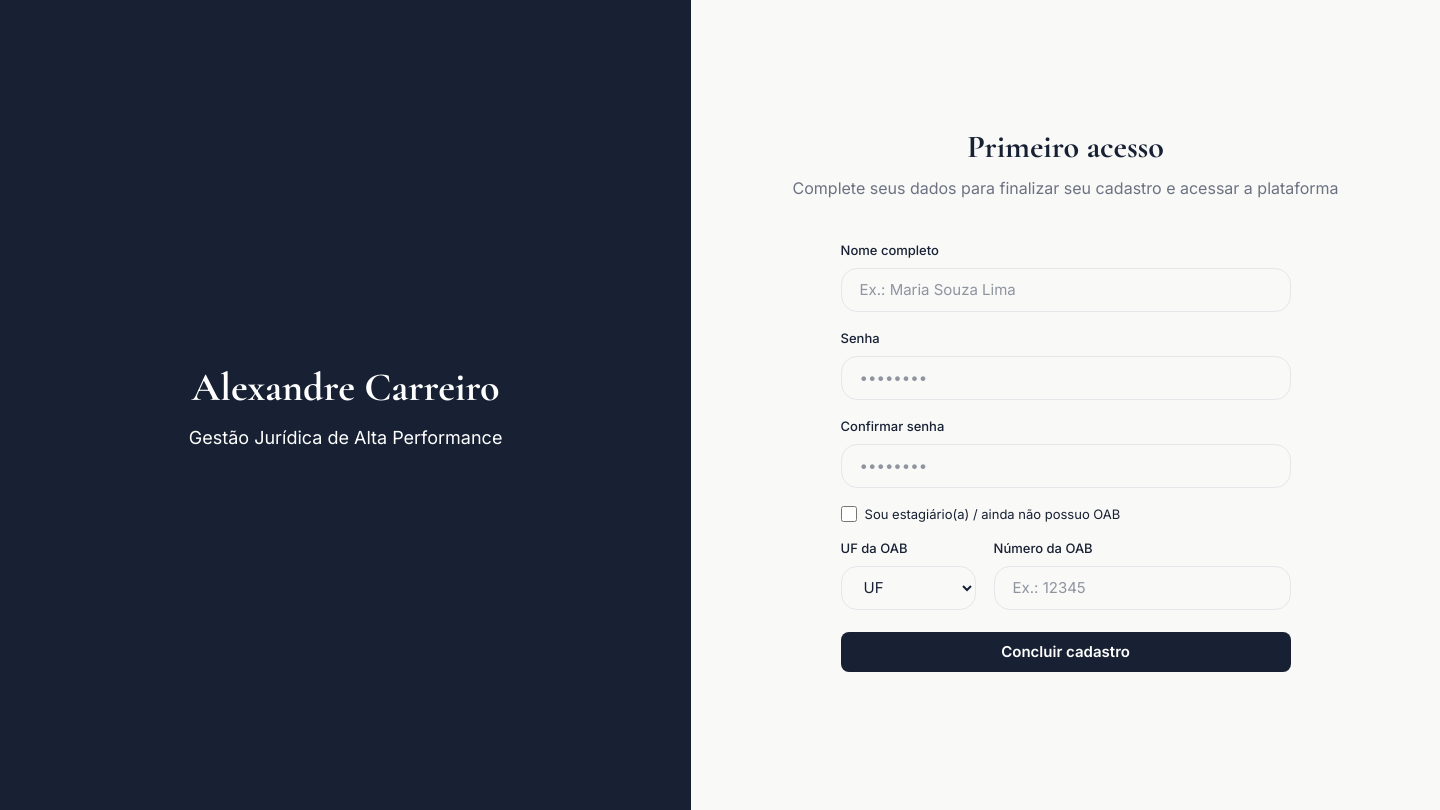
Scenario: Integração: Primeiro Acesso (FirstLoginPage + useFirstLogin + services/auth + fetch) › traduz e exibe erro da API na tela quando PATCH /funcionarios/primeiro-acesso retorna erro 500 inesperado sem corpo detalhado
Type "Maria Souza Lima" into the field labelled "Nome completo" at (1066, 290), box top-left (841, 268), bottom-right (1291, 312)
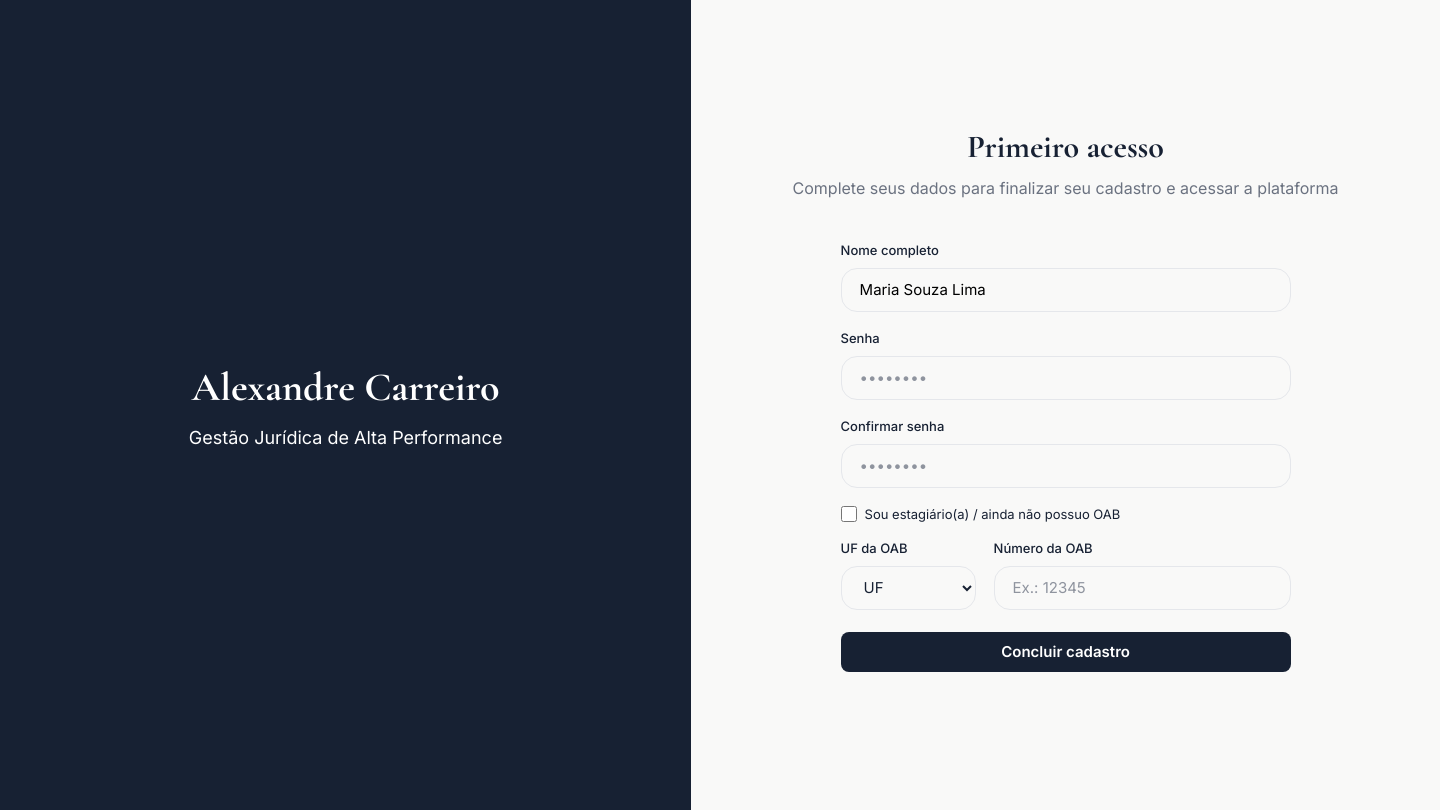
Type "SenhaForte@123" into the password field labelled "Senha" at (1066, 378), box top-left (841, 356), bottom-right (1291, 400)
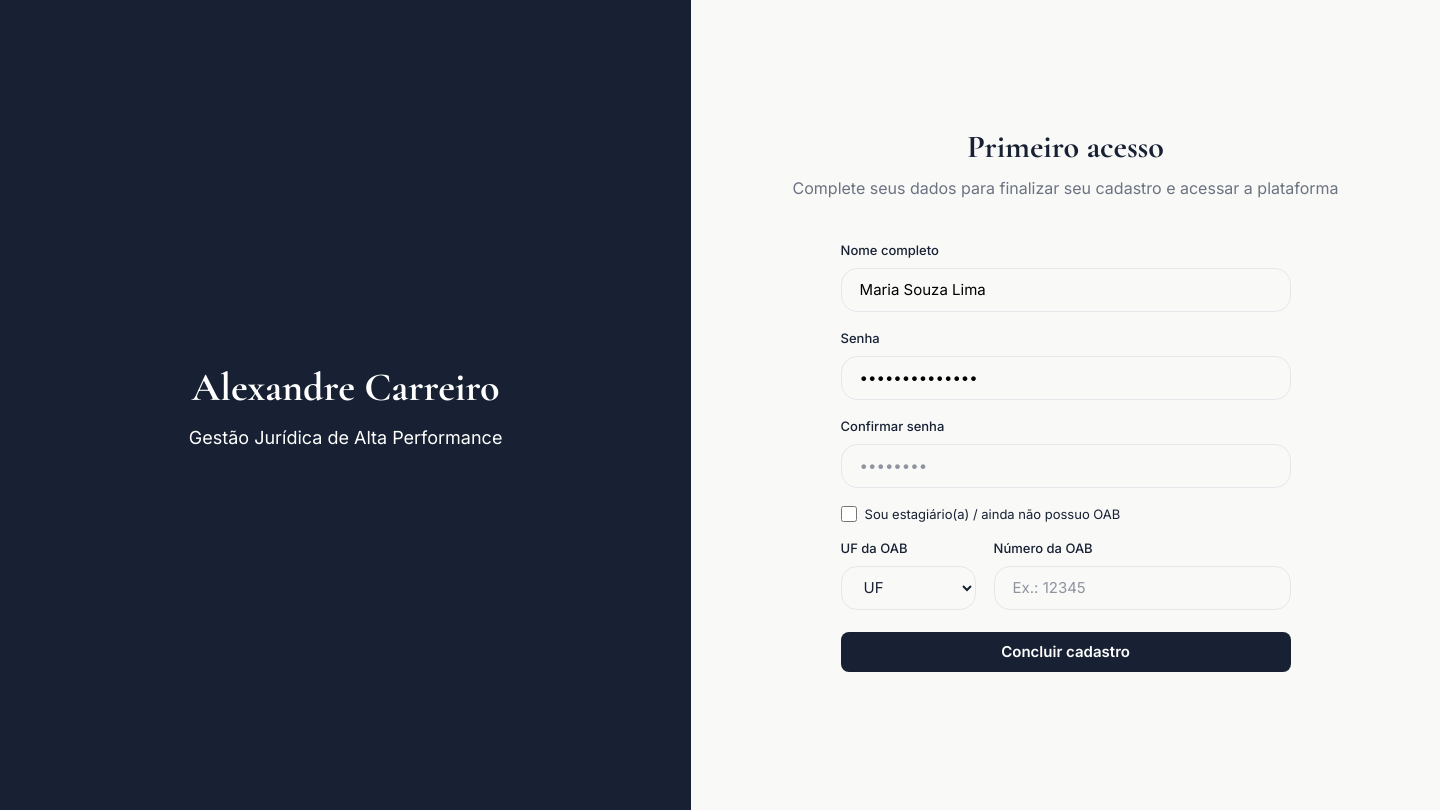
Type "SenhaForte@123" into the password field labelled "Confirmar senha" at (1066, 466), box top-left (841, 444), bottom-right (1291, 488)
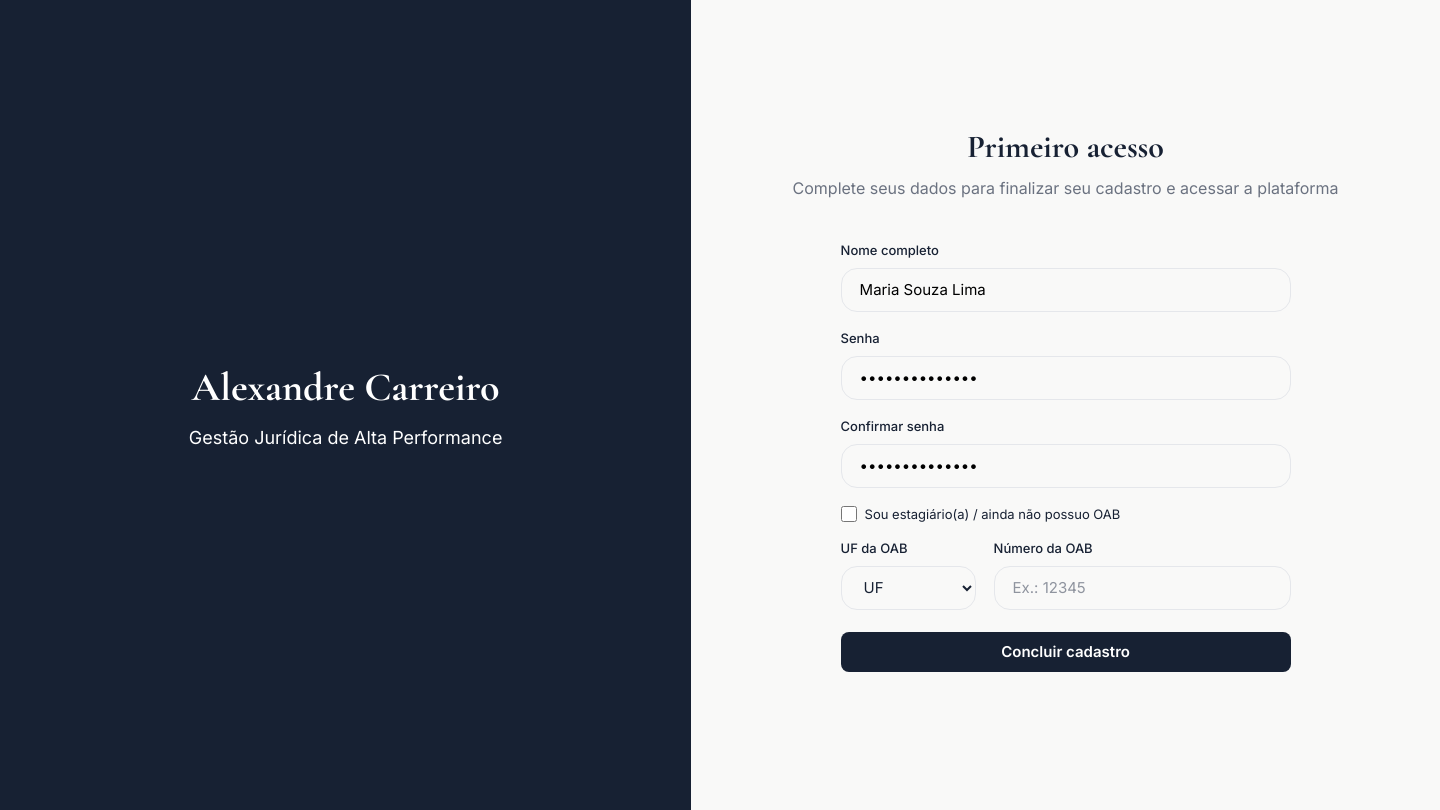
Select "DF" in the dropdown labelled "UF da OAB" at (908, 588), box top-left (841, 566), bottom-right (976, 610)
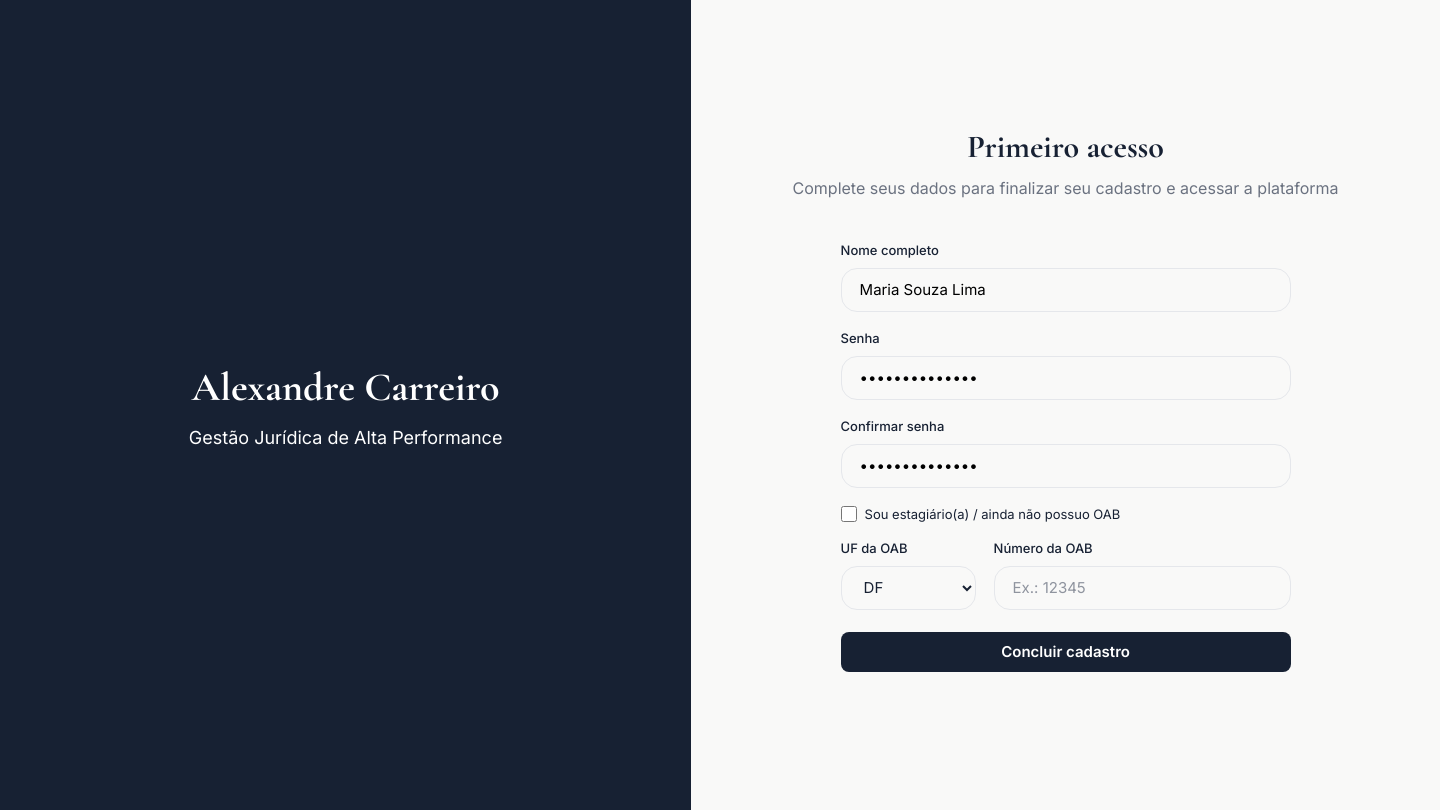
Type "12345" into the field labelled "Número da OAB" at (1142, 588), box top-left (994, 566), bottom-right (1291, 610)
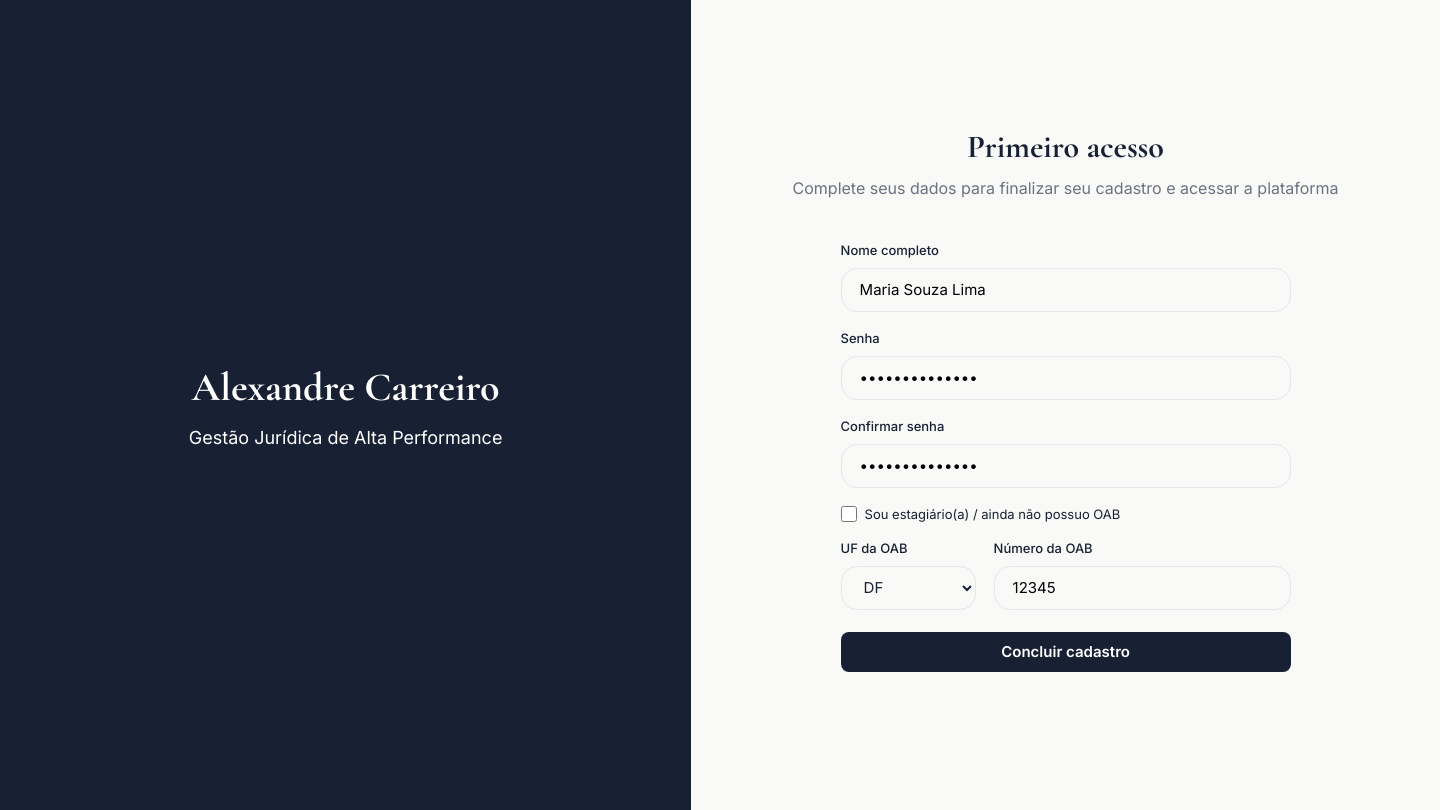
Click the button "Concluir cadastro" at (1066, 652), box top-left (841, 632), bottom-right (1291, 672)
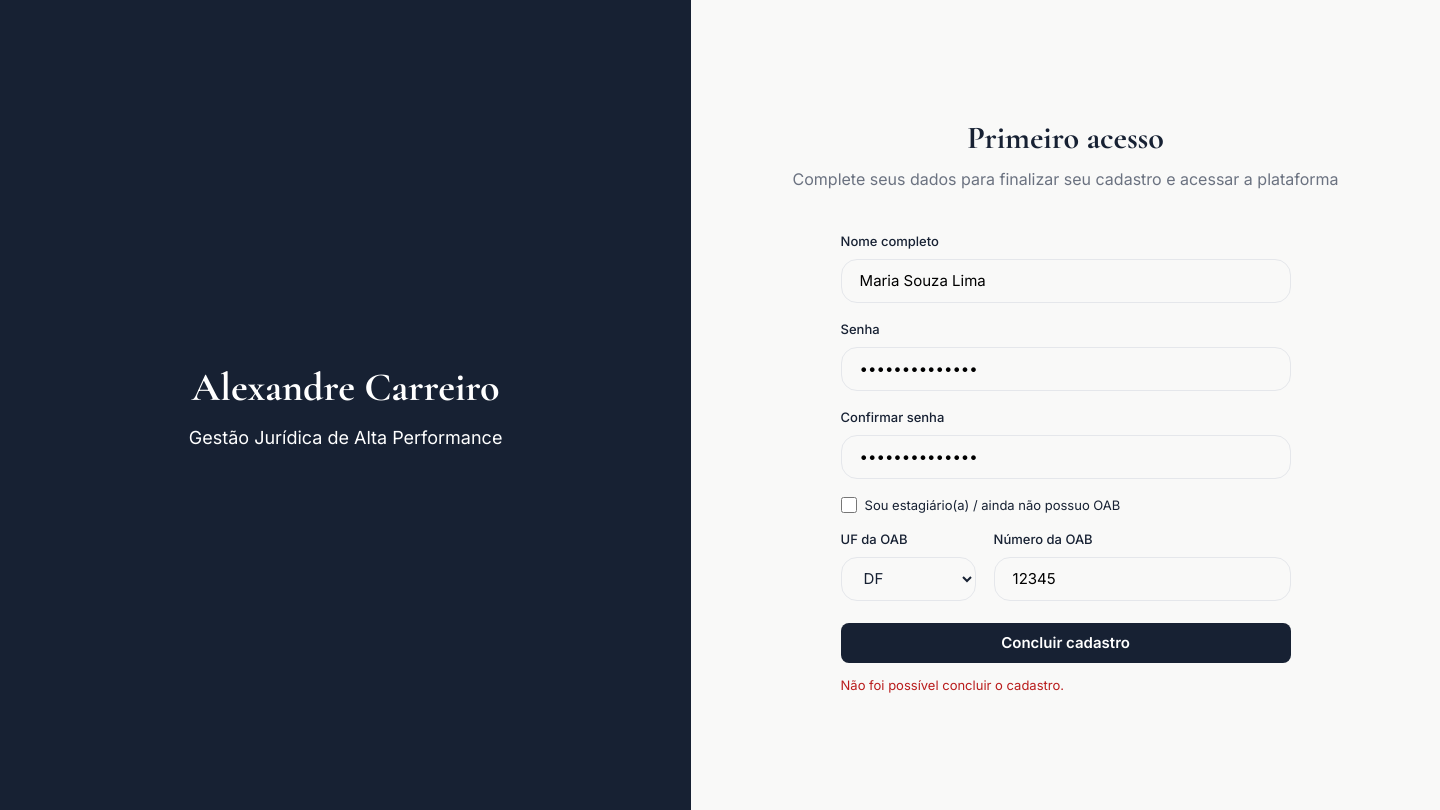
Result: the text "Não foi possível concluir o cadastro." is shown at top-left (841, 676), bottom-right (1064, 692)
